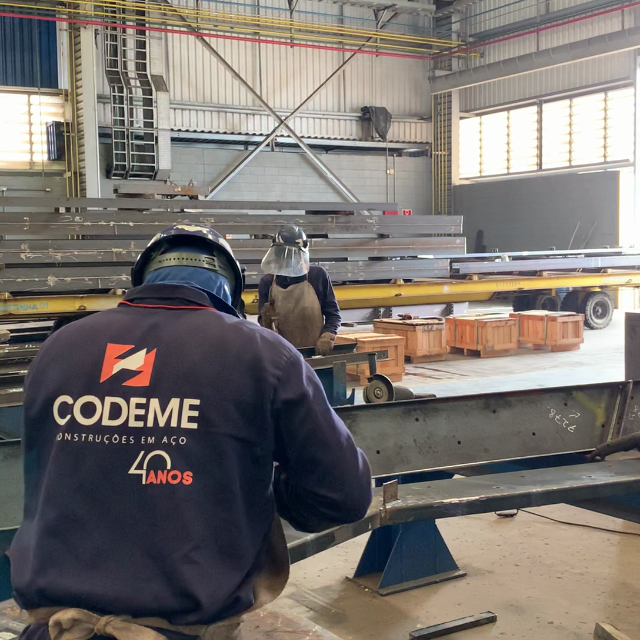face-shield: (259, 244, 312, 278)
glove: (312, 333, 332, 358)
helmet: (130, 221, 247, 301), (271, 224, 310, 248)
person: (6, 222, 375, 627), (257, 222, 343, 357)
